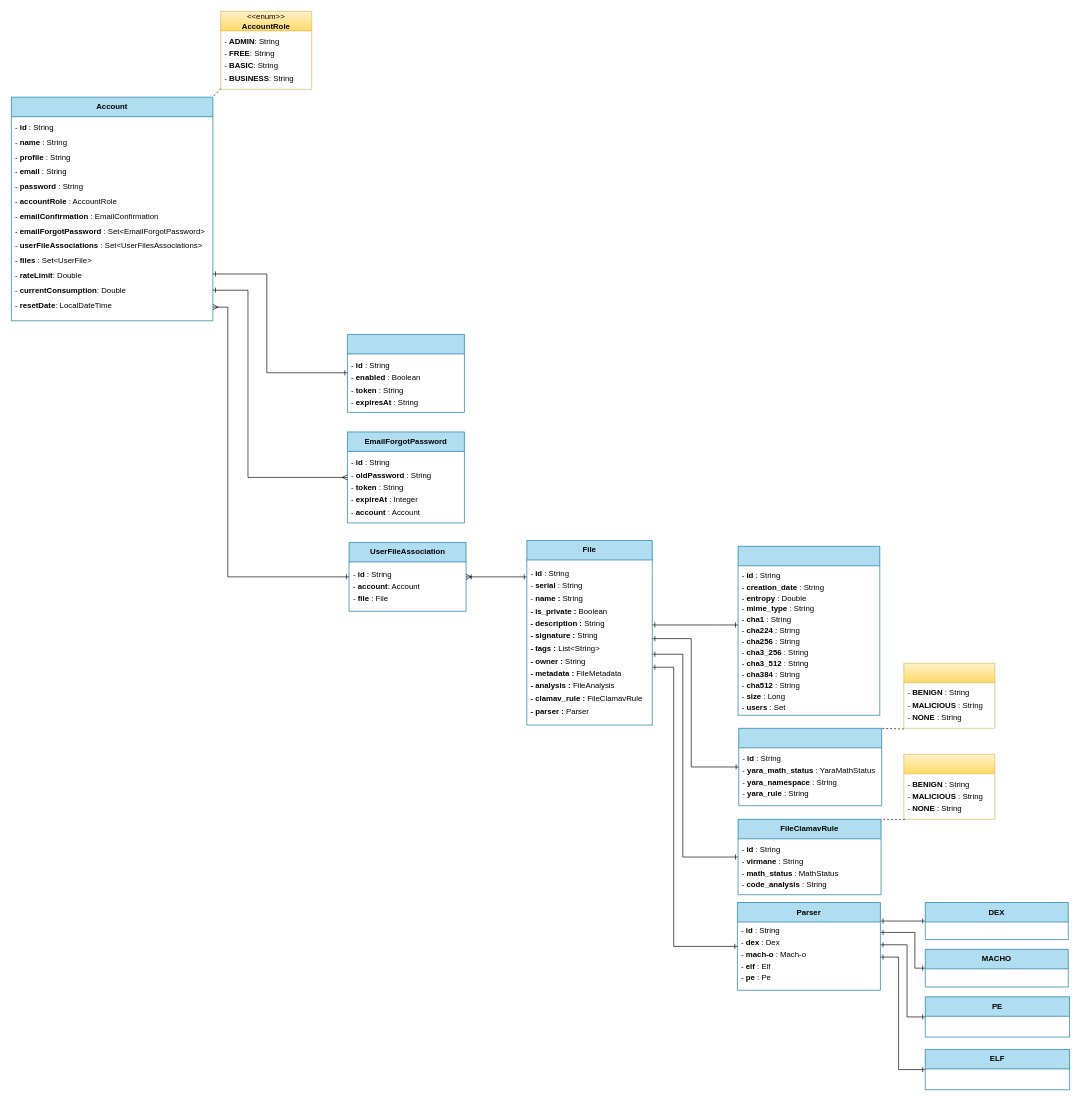
The diagram is 1081 pixels wide and 1101 high, and some of its shapes have lost their labels. Here are the shapes that lost their labels. From the top down, the box of each, then its label:
(347, 334, 464, 412): EmailConfirmation
(737, 546, 880, 715): FileMetadata
(903, 663, 995, 728): <<enum>> YaraMachStatus
(738, 728, 882, 806): FileAnalisys
(903, 754, 995, 819): <<enum>> MachStatus
